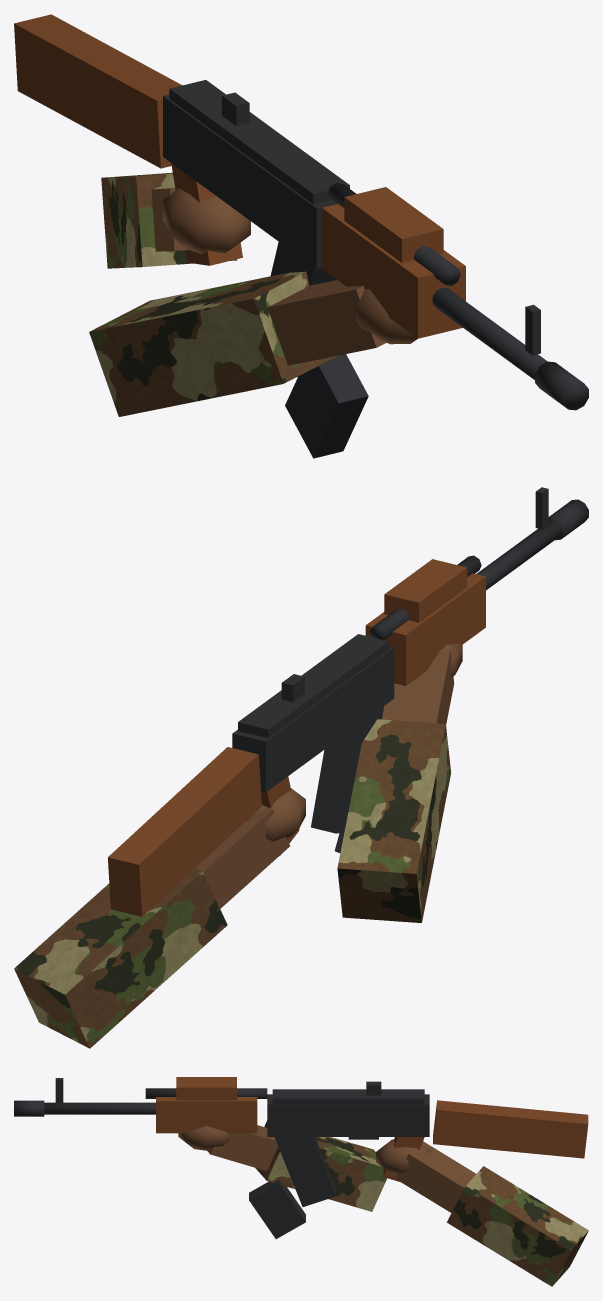
3 renders of one model, top to bottom at view 1: azimuth 30°, elevation 25°; view 2: azimuth 150°, elevation 25°; view 3: azimuth 270°, elevation 25°, orthographic. The views are drawn at different scales.
Parts seen in each view (by area): view 1: Weapon; view 2: Weapon; view 3: Weapon.
Part boxes in pixels (x1,y1,x2,y2): Weapon: (14,14,588,458); Weapon: (14,487,588,1048); Weapon: (14,1077,588,1286).
Size of the model in its own units: 0.3538 by 0.377 by 1.13.
Materials: 4 (1 with a texture image).
